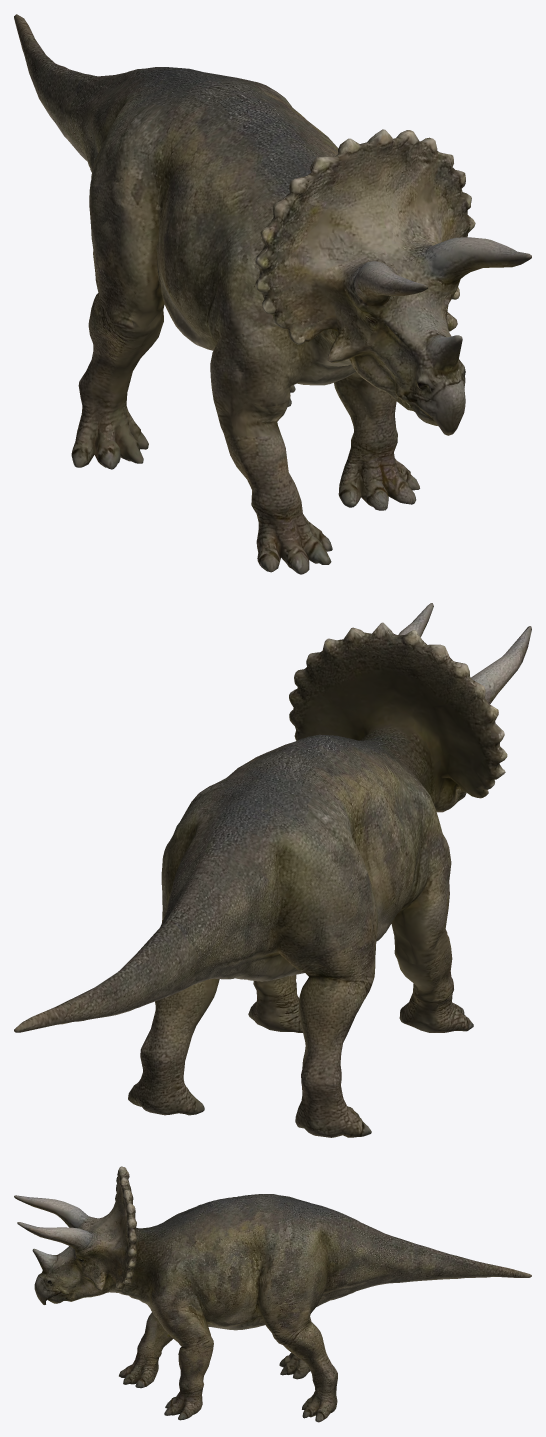
Rendered from triceratops.glb.
3 renders of one model, top to bottom at view 1: azimuth 30°, elevation 25°; view 2: azimuth 150°, elevation 25°; view 3: azimuth 270°, elevation 25°, orthographic. The views are drawn at different scales.
Parts seen in each view (by area): view 1: dino; view 2: dino; view 3: dino.
Part boxes in pixels (box(x1,y1,x2,y2)): dino: box(14, 14, 531, 574); dino: box(14, 603, 531, 1137); dino: box(14, 1166, 531, 1422).
Bounding box in the file's own units: 2.58 × 4.24 × 9.
Materials: 1 (1 with a texture image).
